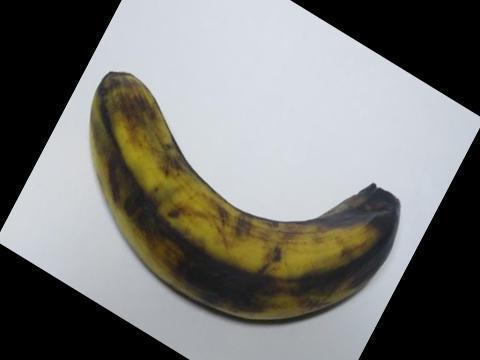overripe: (74, 62, 415, 331)
